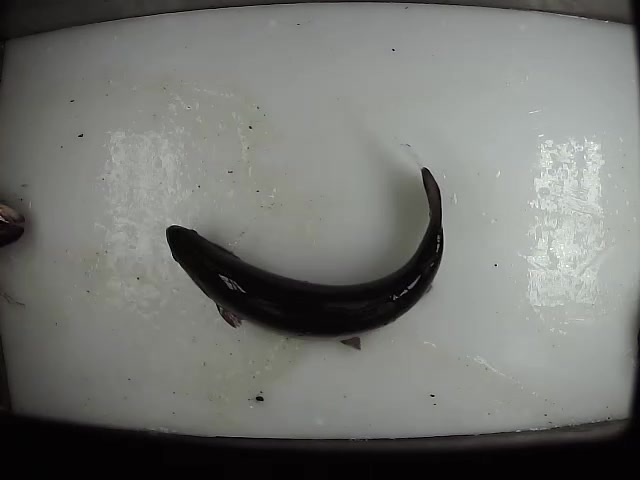fish: (162, 163, 447, 355)
